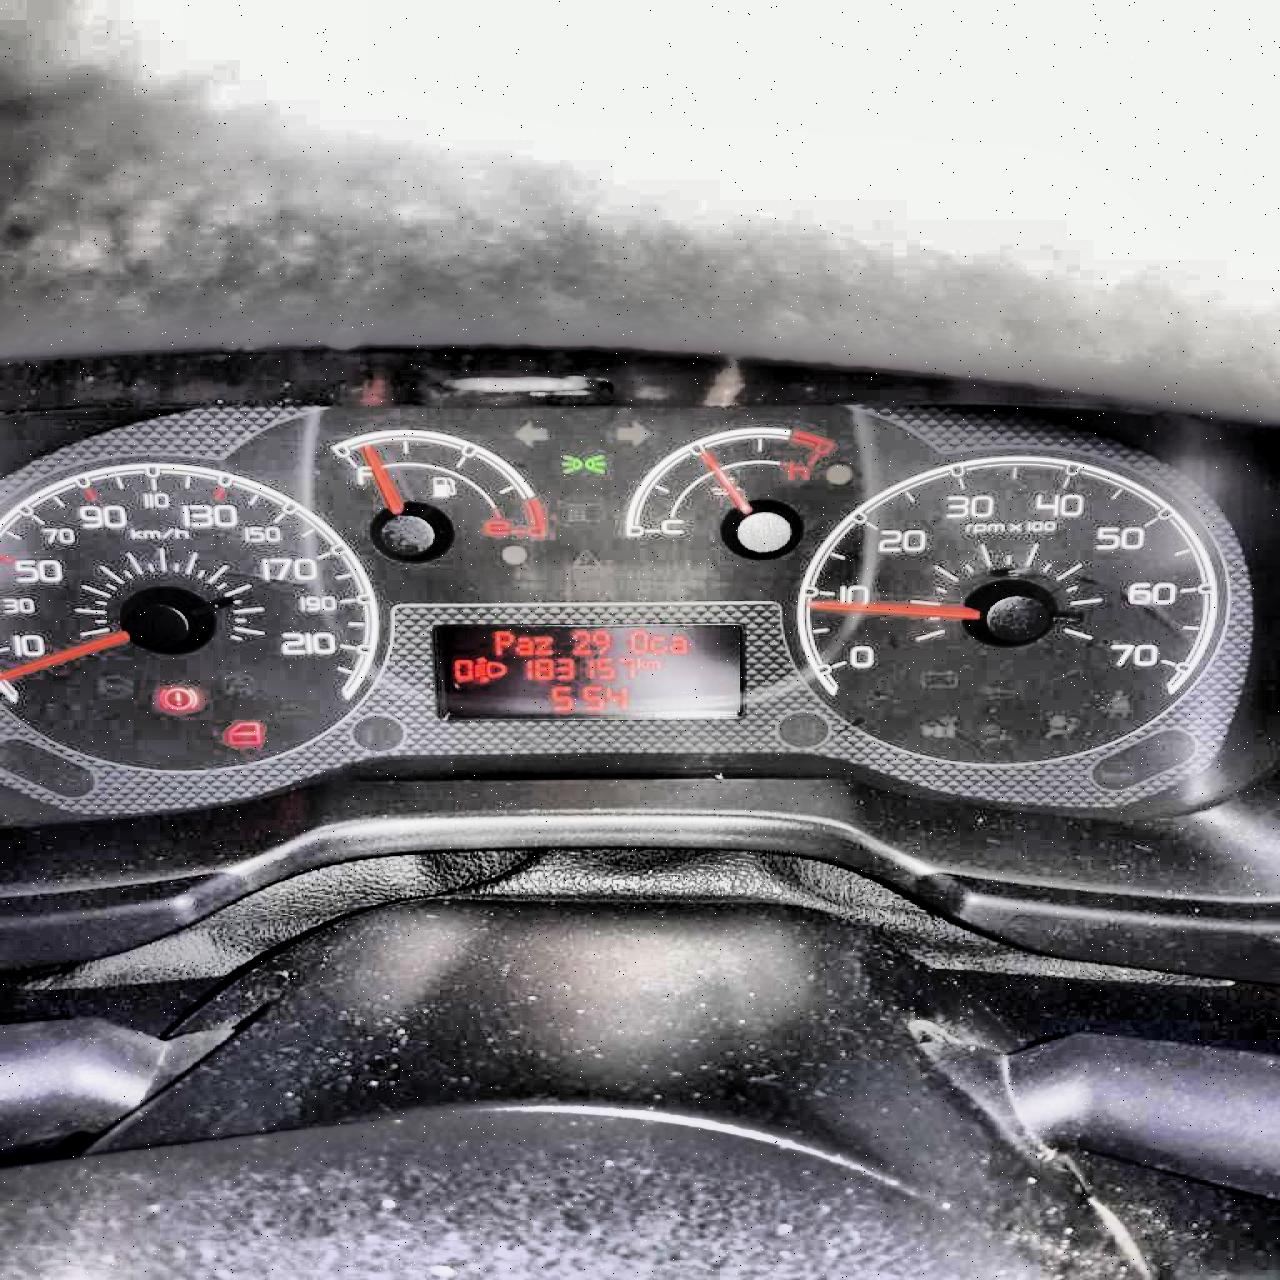0: (454, 658, 471, 681)
1: (525, 659, 532, 679), (587, 658, 593, 678)
2: (570, 629, 592, 655)
3: (553, 658, 573, 679)
4: (605, 686, 627, 709)
5: (550, 685, 573, 710), (581, 685, 604, 709), (594, 658, 613, 679)
7: (617, 658, 635, 678)
8: (533, 658, 552, 679)
9: (590, 628, 610, 653)
X: (493, 629, 512, 655), (628, 628, 647, 654), (532, 635, 553, 654), (513, 636, 533, 655), (647, 634, 666, 654), (668, 634, 685, 654), (645, 659, 659, 667), (636, 656, 645, 669)
odometer: (429, 621, 743, 721)
